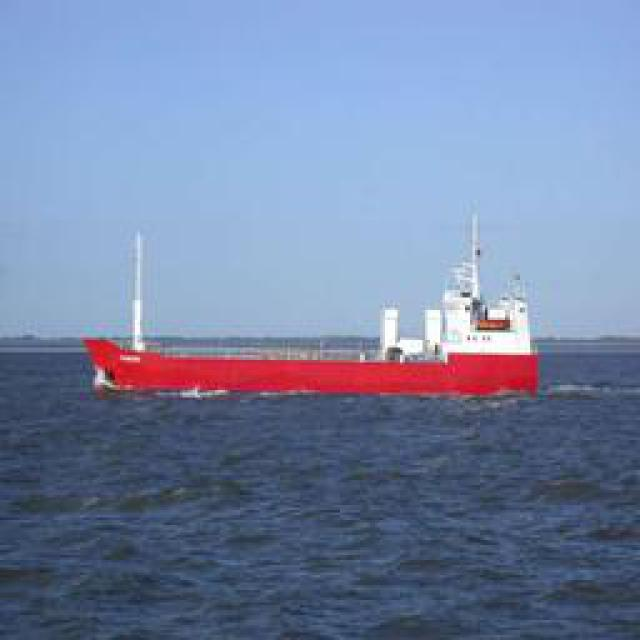Ship: (91, 205, 539, 405)
